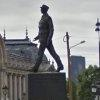Statue: (24, 3, 66, 72)
